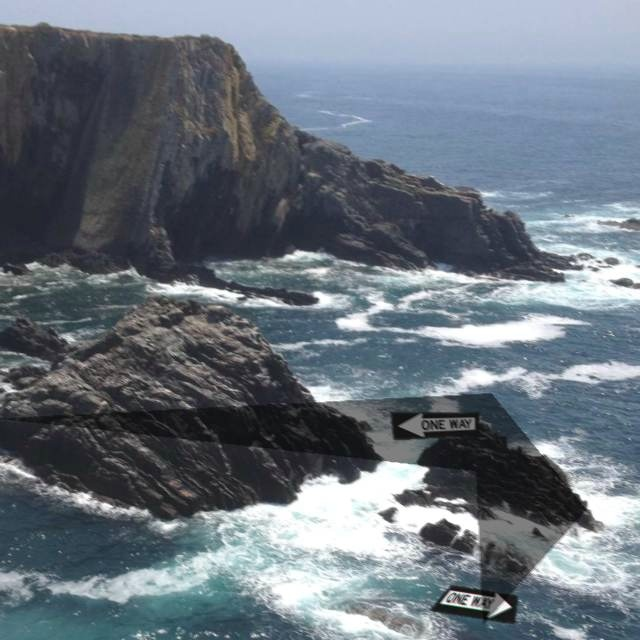ONE_WAY_ left: (390, 411, 480, 440)
ONE_WAY_ right: (428, 584, 518, 624)
